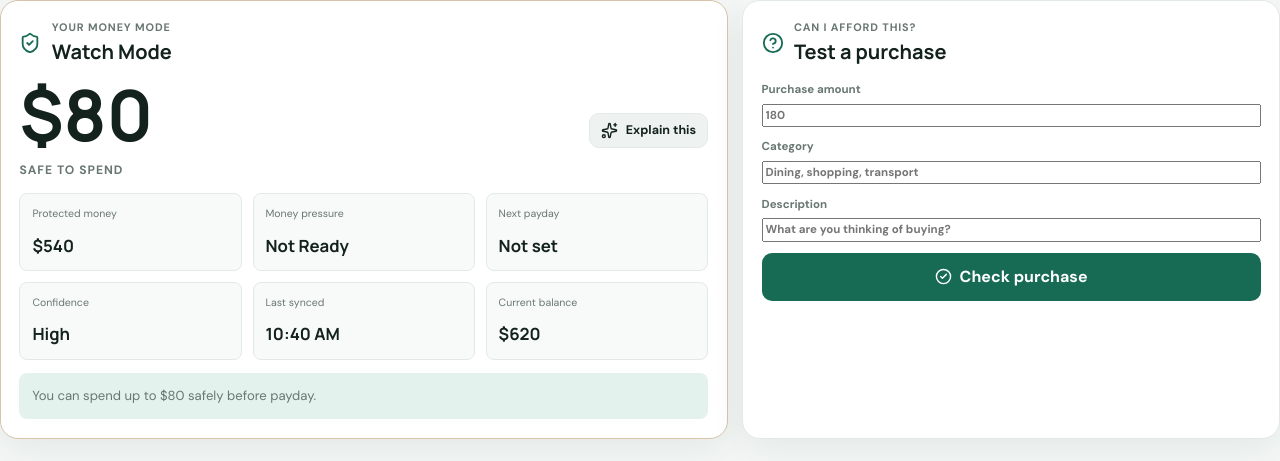
portfolio upgrade UI › renders Watch Mode and checks a possible purchase
Expected: the text "Watch Mode" is shown, 52,37 -> 172,67
Expected: the text "Safe to Spend" is shown, 19,162 -> 123,178
In the number field labelled "Purchase amount": [1011, 115] box 762,104 -> 1261,127, type "65"
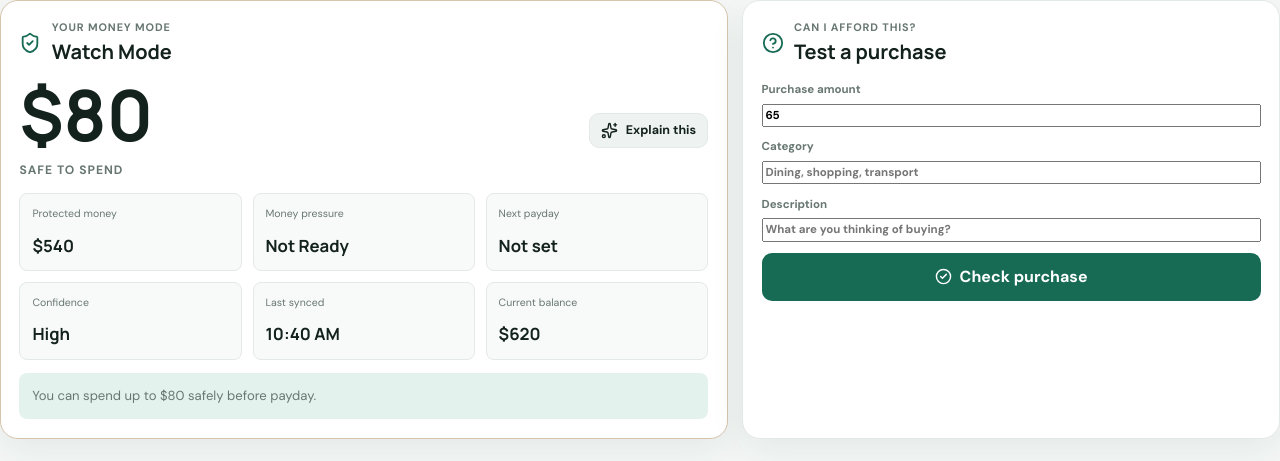
In the field labelled "Category": [1011, 173] box 762,161 -> 1261,184, type "dining with friends"
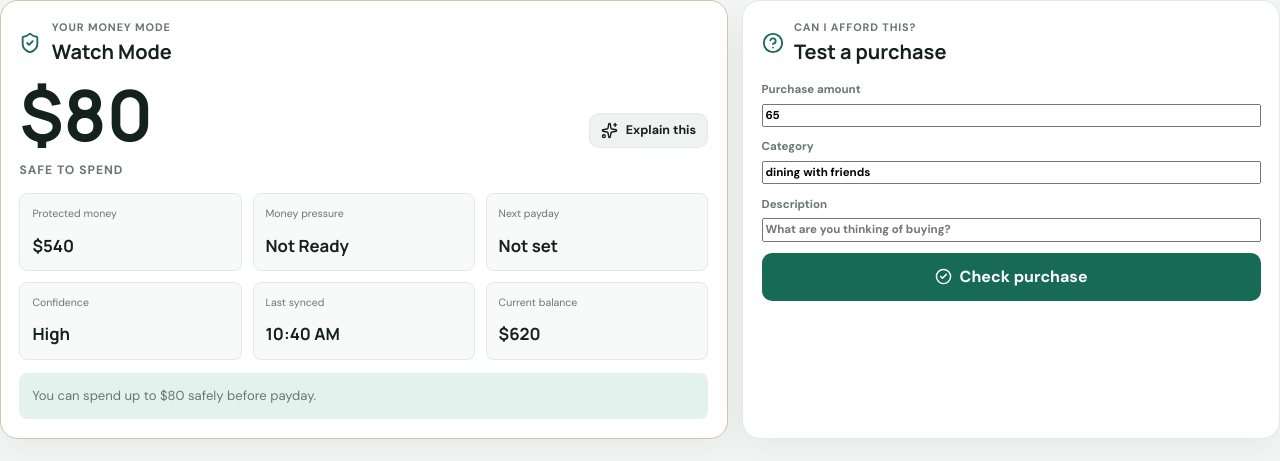
In the field labelled "Description": [1011, 230] box 762,218 -> 1261,242, type "Dinner after work with my team"
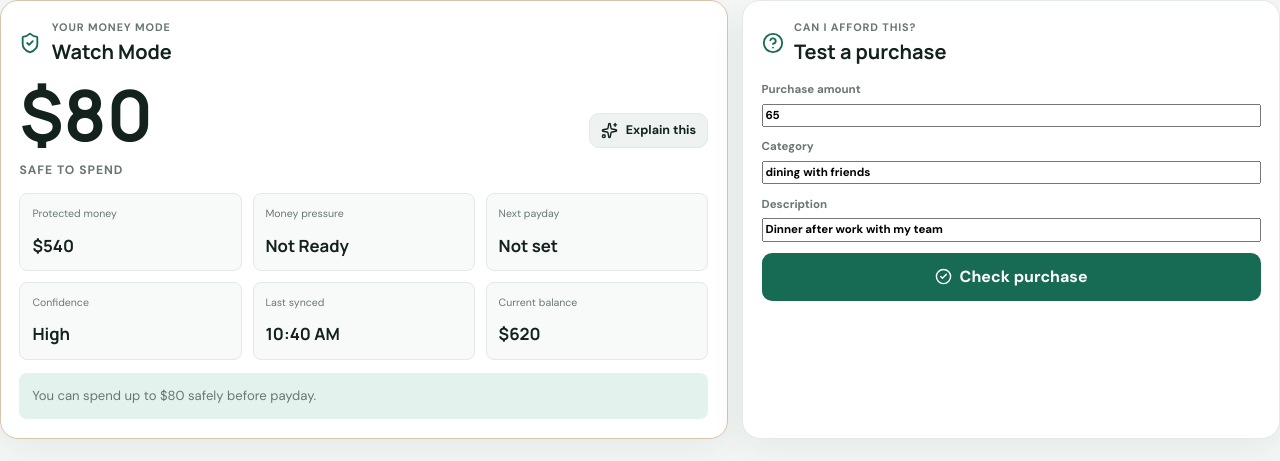
Click the button "Check purchase": [1011, 277] box 762,253 -> 1261,301
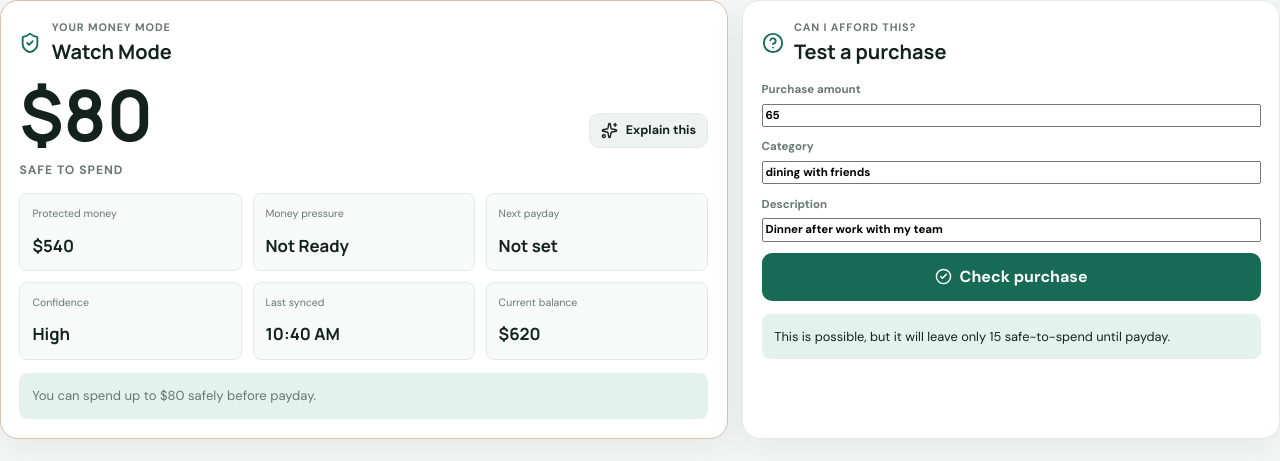
Expected: the text "This is possible, but it will leave only 15 safe-to-spend until payday." is shown, 762,314 -> 1261,359
